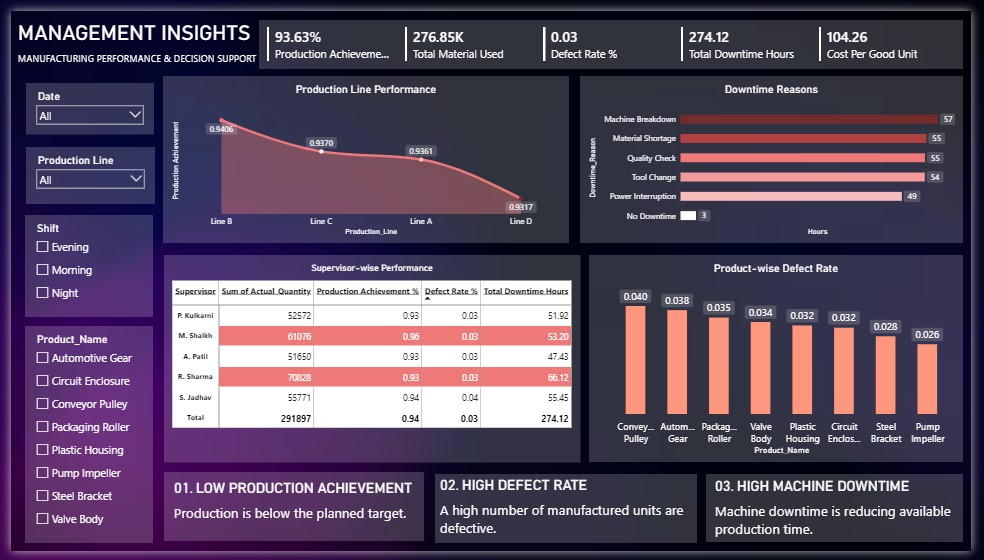

The dashboard page shown, as its layout file describes it:
{"tool":"powerbi","page":{"name":"Management Insights","canvas":[1920,1080],"ordinal":3},"visuals":[{"type":"textbox","title":"MANAGEMENT INSIGHTS","box":[14,18,498,112],"z":0},{"type":"cardVisual","fields":{"Data":["manufacturing_mis.Production Achievement %","manufacturing_mis.Total Material Used","manufacturing_mis.Defect Rate %","manufacturing_mis.Total Downtime Hours","manufacturing_mis.Cost Per Good Unit"]},"box":[496,18,1408,98],"z":1000},{"type":"areaChart","title":"Production Line Performance","fields":{"Category":["manufacturing_mis.Production_Line"],"Y":["manufacturing_mis.Production Achievement %"]},"box":[304,130,812,334],"z":2000},{"type":"barChart","title":"Downtime Reasons","fields":{"Category":["manufacturing_mis.Downtime_Reason"],"Y":["manufacturing_mis.Total Downtime Hours"]},"box":[1138,130,766,334],"z":3000},{"type":"slicer","fields":{"Values":["manufacturing_mis.Production_Date.Variation.Date Hierarchy.Year","manufacturing_mis.Production_Date.Variation.Date Hierarchy.Month"]},"box":[31,144.5,256,103.2],"z":4000},{"type":"slicer","fields":{"Values":["manufacturing_mis.Production_Line"]},"box":[30.7,272.7,258.1,113.5],"z":5000},{"type":"slicer","fields":{"Values":["manufacturing_mis.Product_Name"]},"box":[28.9,629.7,256,433.5],"z":6000},{"type":"clusteredColumnChart","title":"Product-wise Defect Rate","fields":{"Category":["manufacturing_mis.Product_Name"],"Y":["manufacturing_mis.Defect Rate %"]},"box":[1156,488,748,414],"z":7000},{"type":"pivotTable","title":"Supervisor-wise Performance","fields":{"Rows":["manufacturing_mis.Supervisor"],"Values":["Sum(manufacturing_mis.Actual_Quantity)","manufacturing_mis.Production Achievement %","manufacturing_mis.Defect Rate %","manufacturing_mis.Total Downtime Hours"]},"box":[305,487.5,832.5,415],"z":8000},{"type":"slicer","fields":{"Values":["manufacturing_mis.Shift"]},"box":[28.9,408.8,256,204.4],"z":9000},{"type":"textbox","title":"01. LOW PRODUCTION ACHIEVEMENT","box":[325,935,532.5,115],"z":10000},{"type":"shape","box":[305,922.5,520,137.5],"z":11000},{"type":"shape","box":[847.5,925,524,137.5],"z":12000},{"type":"shape","box":[1390,926,514,136],"z":13000},{"type":"textbox","title":"02. HIGH DEFECT RATE","box":[857.5,930,517.5,132.5],"z":14000},{"type":"textbox","title":"03. HIGH MACHINE DOWNTIME","box":[1407.5,932.5,495,127.5],"z":15000}]}

Visuals, with their boxes in screenshot pixels (x1, y1, x2, y2), scaled from the page's 1920x1080 canvas onto the 984x560 screenshot:
"MANAGEMENT INSIGHTS" textbox: rect(7, 9, 262, 67)
cardVisual - manufacturing_mis.Production Achievement % x manufacturing_mis.Total Material Used: rect(254, 9, 976, 60)
"Production Line Performance" areaChart: rect(156, 67, 572, 241)
"Downtime Reasons" barChart: rect(583, 67, 976, 241)
slicer - manufacturing_mis.Production_Date.Variation.Date Hierarchy.Year x manufacturing_mis.Production_Date.Variation.Date Hierarchy.Month: rect(16, 75, 147, 128)
slicer - manufacturing_mis.Production_Line: rect(16, 141, 148, 200)
slicer - manufacturing_mis.Product_Name: rect(15, 327, 146, 551)
"Product-wise Defect Rate" clusteredColumnChart: rect(592, 253, 976, 468)
"Supervisor-wise Performance" pivotTable: rect(156, 253, 583, 468)
slicer - manufacturing_mis.Shift: rect(15, 212, 146, 318)
"01. LOW PRODUCTION ACHIEVEMENT" textbox: rect(167, 485, 439, 544)
shape: rect(156, 478, 423, 550)
shape: rect(434, 480, 703, 551)
shape: rect(712, 480, 976, 551)
"02. HIGH DEFECT RATE" textbox: rect(439, 482, 705, 551)
"03. HIGH MACHINE DOWNTIME" textbox: rect(721, 484, 975, 550)
